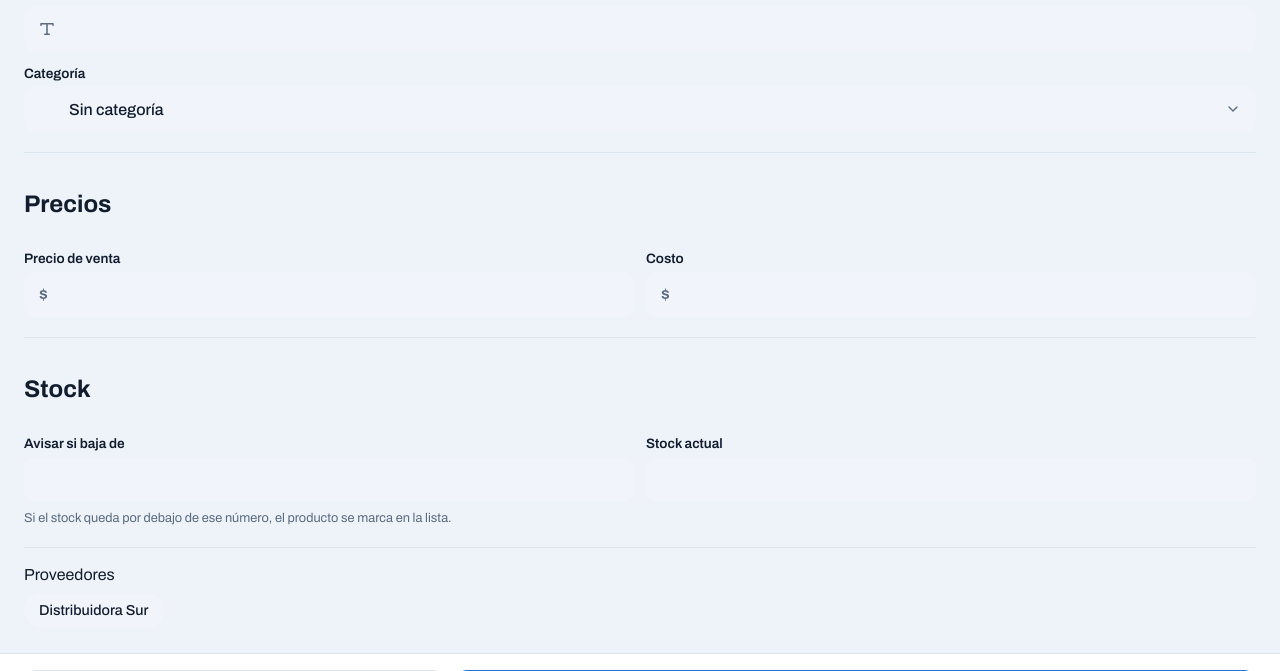
Test: ProductForm › avisa si el precio de un proveedor queda por debajo de su costo
(page scrolled)
Click the checkbox labelled "Distribuidora Sur" at coordinates (48, 610), box [39,602,57,620]
(page scrolled)
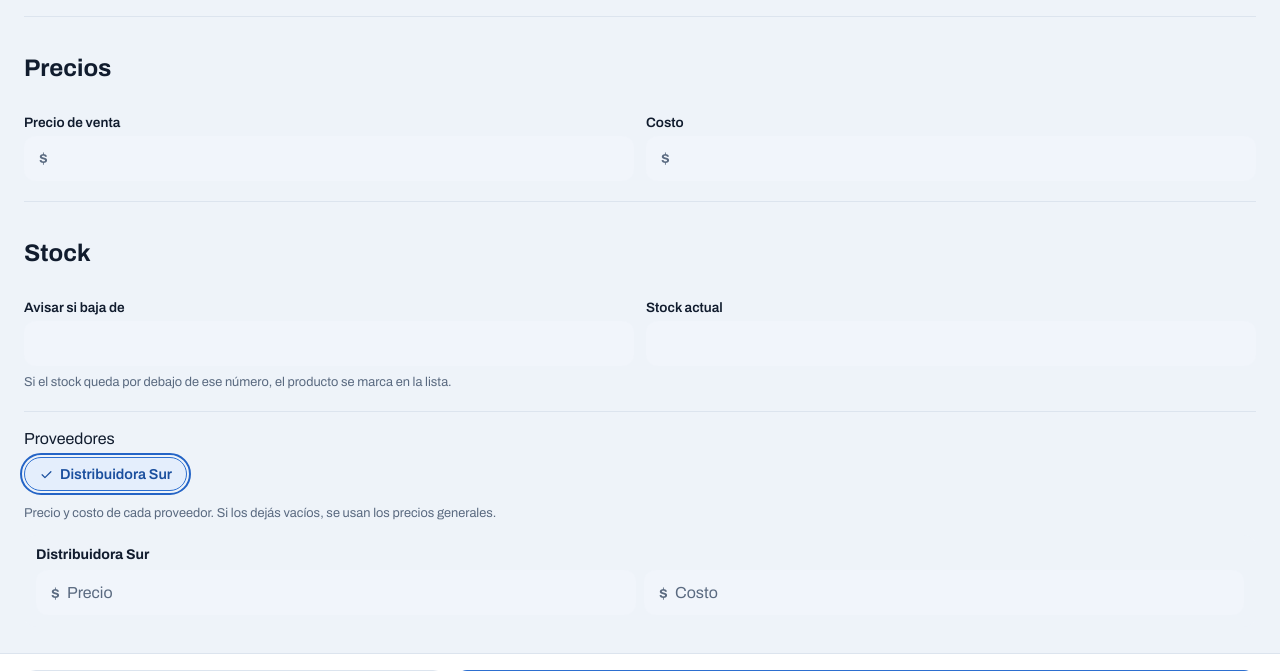
Type "8" into the number field named "Precio en Distribuidora Sur" at coordinates (336, 593), box [36,570,636,615]
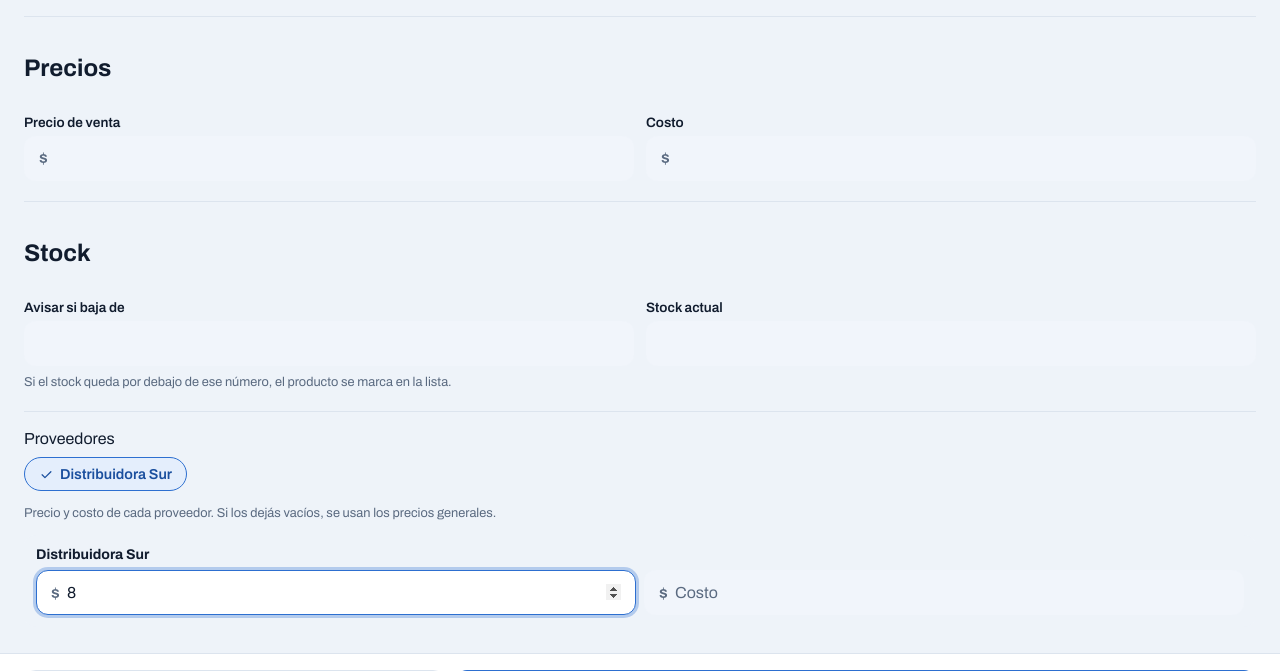
Type "10" into the number field named "Costo en Distribuidora Sur" at coordinates (944, 593), box [644,570,1244,615]
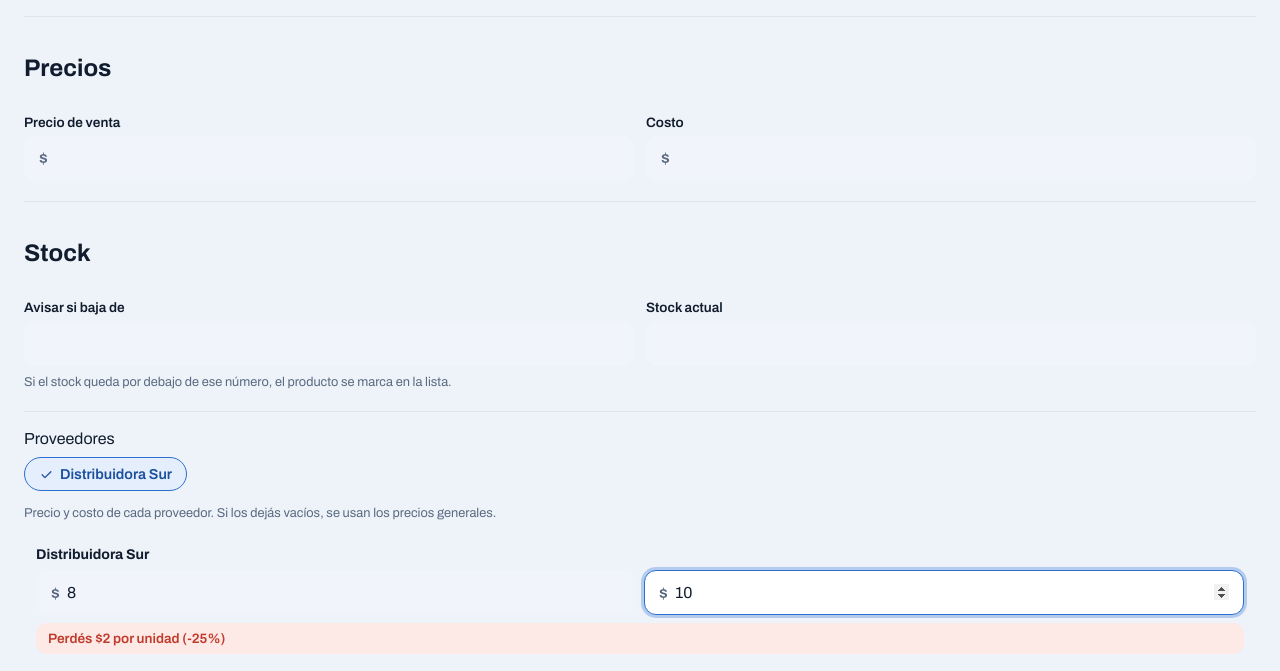
Now the text "Perdés $2 por unidad (-25%)" is shown, box [36,623,1244,654]
